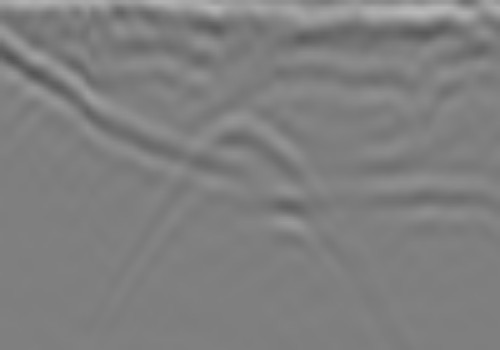hyperbola: (142, 115, 345, 295)
